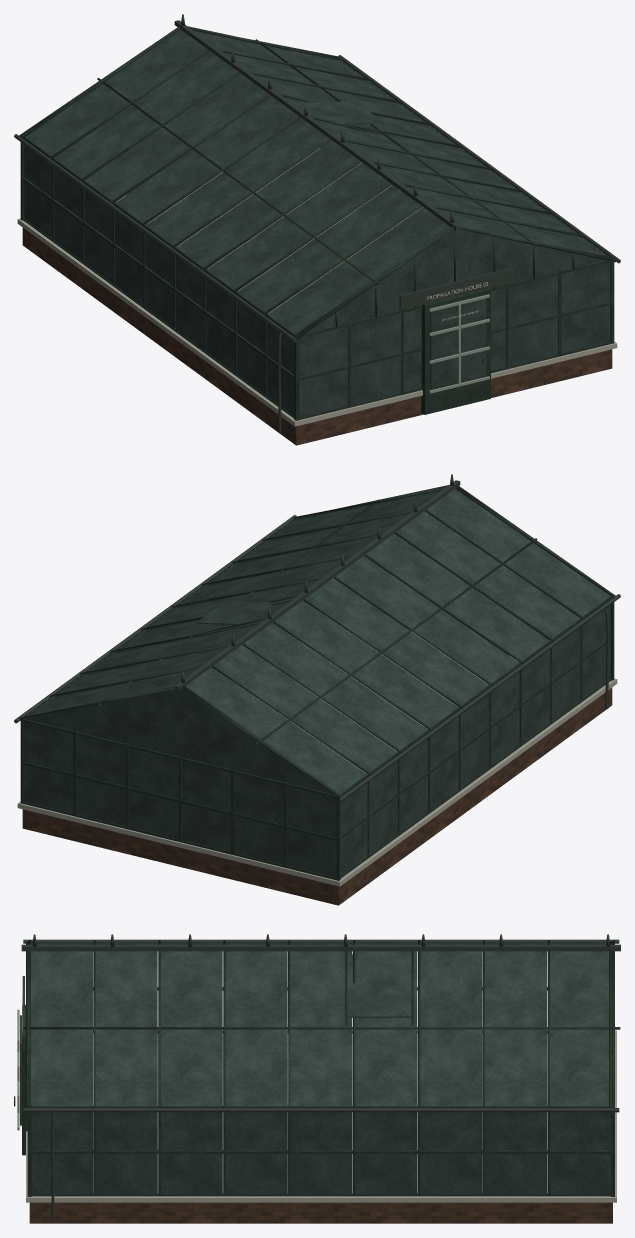
The model's file is weathered-glasshouse.glb.
The picture shows the model from 3 angles, top to bottom: view 1: azimuth 30°, elevation 25°; view 2: azimuth 150°, elevation 25°; view 3: azimuth 270°, elevation 25°; orthographic projection. The views are drawn at different scales.
Visible parts, largest first — view 1: End glass plane, Brick greenhouse foundation, Triangular glazed gable, Dirty pitched roof pane.006, Dirty pitched roof pane.003, Dirty pitched roof pane.007, Dirty pitched roof pane.002, Dirty pitched roof pane.005, Dirty pitched roof pane.004, Dirty pitched roof pane.001, Dirty pitched roof pane, Dirty pitched roof pane.008 (+45 smaller); view 2: End glass plane.001, Brick greenhouse foundation, Triangular glazed gable.001, Dirty pitched roof pane.001, Dirty pitched roof pane.002, Dirty pitched roof pane.004, Dirty pitched roof pane, Dirty pitched roof pane.003, Dirty pitched roof pane.005, Dirty pitched roof pane.006, Dirty pitched roof pane.007, Dirty pitched roof pane.008 (+40 smaller); view 3: Brick greenhouse foundation, Dirty pitched roof pane.010, Dirty pitched roof pane.011, Dirty pitched roof pane.012, Dirty pitched roof pane.015, Dirty pitched roof pane.016, Dirty pitched roof pane.009, Dirty pitched roof pane.013, Dirty pitched roof pane.017, Dirty pitched roof pane.014, Foundation coping, Ridge iron cap (+39 smaller).
Part boxes in pixels (box(x1,y1,x2,y2)): End glass plane: box(299, 262, 609, 417); Brick greenhouse foundation: box(22, 227, 612, 445); Triangular glazed gable: box(306, 229, 604, 333); Dirty pitched roof pane.006: box(85, 73, 268, 201); Dirty pitched roof pane.003: box(176, 140, 359, 268); Dirty pitched roof pane.007: box(55, 51, 238, 179); Dirty pitched roof pane.002: box(207, 162, 390, 290); Dirty pitched roof pane.005: box(116, 96, 298, 223); Dirty pitched roof pane.004: box(146, 118, 329, 246); Dirty pitched roof pane.001: box(237, 185, 420, 313); Dirty pitched roof pane: box(268, 207, 450, 334); Dirty pitched roof pane.008: box(26, 29, 207, 157); End glass plane.001: box(23, 722, 336, 877); Brick greenhouse foundation: box(22, 687, 612, 905); Triangular glazed gable.001: box(25, 689, 335, 794); Dirty pitched roof pane.001: box(396, 511, 579, 639); Dirty pitched roof pane.002: box(366, 533, 549, 661); Dirty pitched roof pane.004: box(305, 578, 488, 706); Dirty pitched roof pane: box(426, 489, 609, 617); Dirty pitched roof pane.003: box(335, 556, 518, 683); Dirty pitched roof pane.005: box(274, 600, 458, 728); Dirty pitched roof pane.006: box(244, 622, 427, 750); Dirty pitched roof pane.007: box(213, 645, 397, 773); Dirty pitched roof pane.008: box(185, 667, 366, 793); Brick greenhouse foundation: box(29, 1202, 612, 1223); Dirty pitched roof pane.010: box(95, 951, 157, 1106); Dirty pitched roof pane.011: box(160, 951, 222, 1106); Dirty pitched roof pane.012: box(225, 951, 287, 1106); Dirty pitched roof pane.015: box(420, 951, 482, 1106); Dirty pitched roof pane.016: box(485, 951, 546, 1106); Dirty pitched roof pane.009: box(31, 951, 92, 1106); Dirty pitched roof pane.013: box(290, 951, 352, 1106); Dirty pitched roof pane.017: box(550, 951, 609, 1106); Dirty pitched roof pane.014: box(355, 951, 417, 1106); Foundation coping: box(26, 1030, 616, 1202); Ridge iron cap: box(21, 944, 620, 951).
Size of the model in its own units: 8.38 by 4.69 by 12.49.
Materials: 7 (3 with a texture image).
